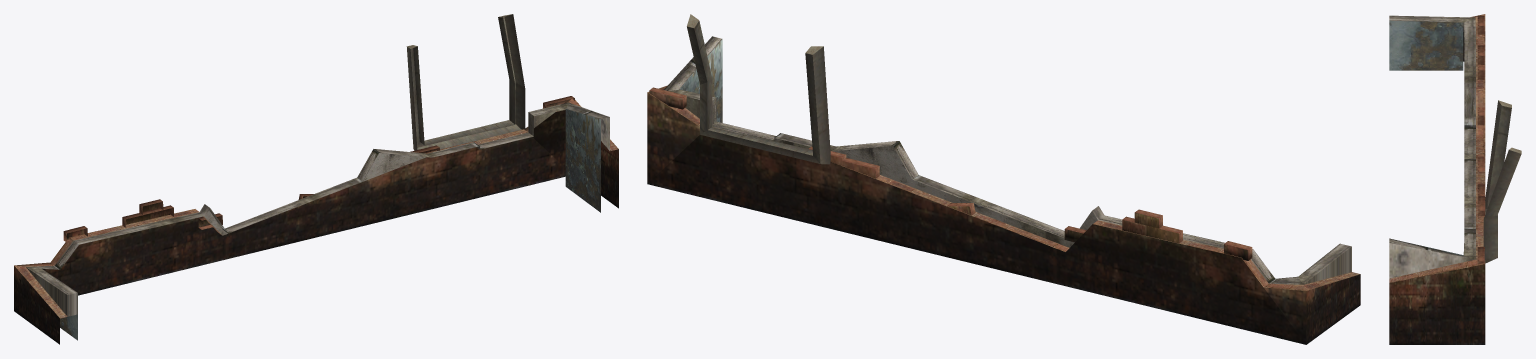
The model's file is Store_front_6_E.fbx.
The picture shows the model from 3 angles, left to right: view 1: azimuth 30°, elevation 25°; view 2: azimuth 150°, elevation 25°; view 3: azimuth 270°, elevation 25°; orthographic projection. The views are drawn at different scales.
Parts seen in each view (by area): view 1: Store_front_6_E; view 2: Store_front_6_E; view 3: Store_front_6_E.
Part boxes in pixels (x1=…): Store_front_6_E: x1=14, y1=14, x2=618, y2=344; Store_front_6_E: x1=647, y1=14, x2=1360, y2=344; Store_front_6_E: x1=1389, y1=14, x2=1521, y2=344.
Size of the model in its own units: 700 by 197 by 138.
